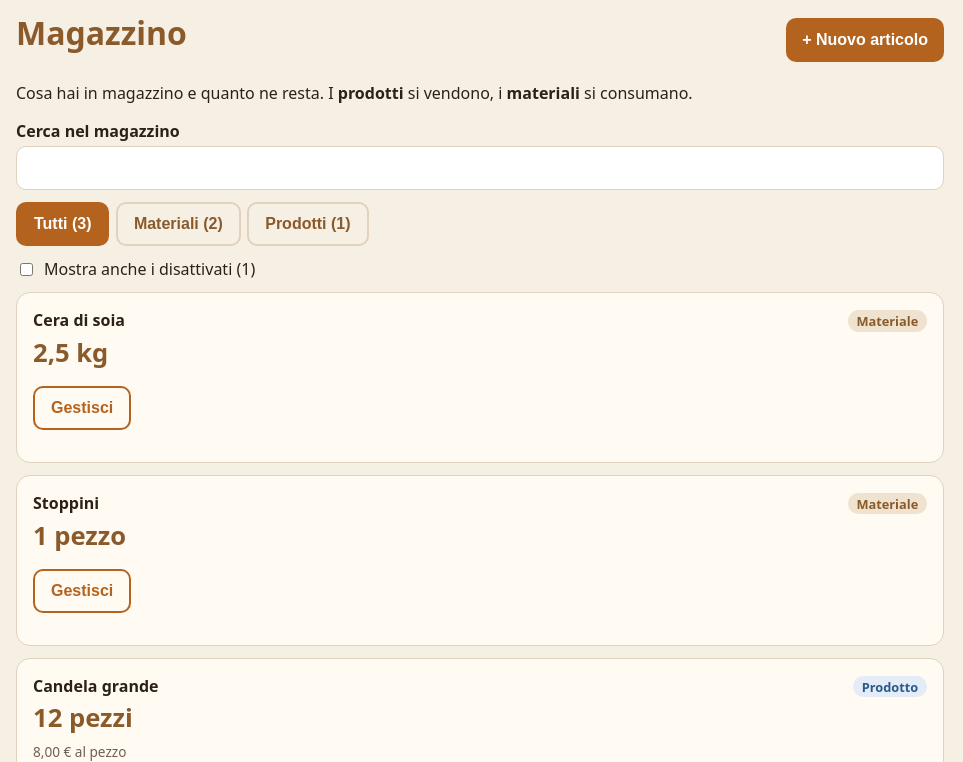
Test: nuovo articolo › scegliendo Prodotto l'unità diventa Pezzi e non si può cambiare
Click the button "+ Nuovo articolo": (865, 40) [786,18,944,62]
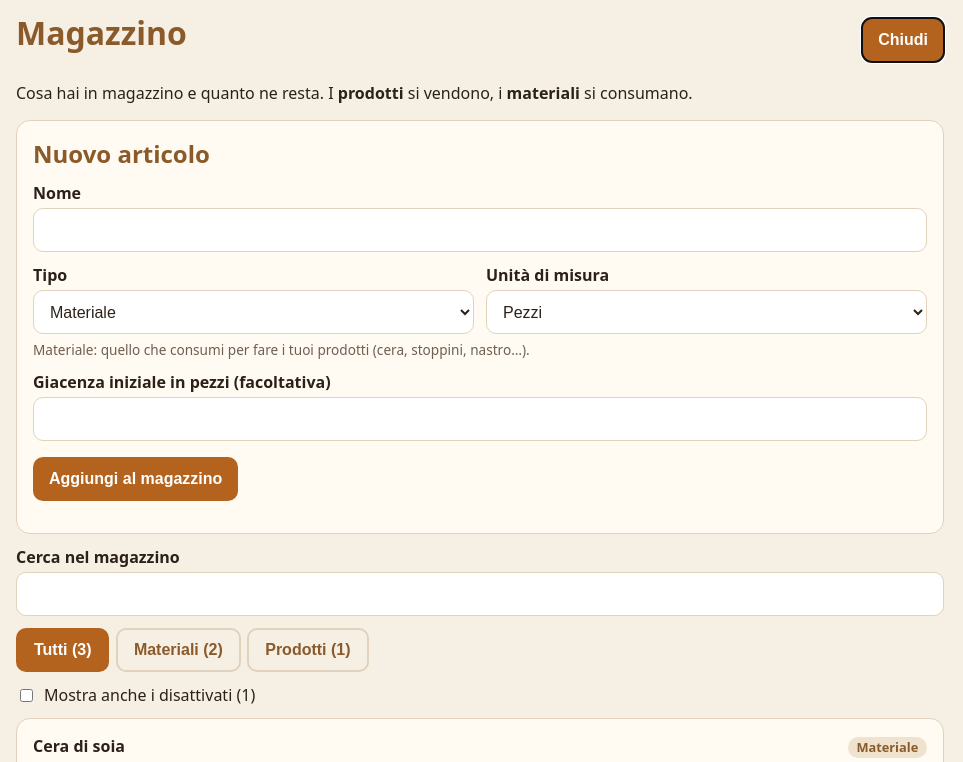
Select "Chili (kg)" in the dropdown labelled "Unità di misura": (706, 312) [486,290,927,334]
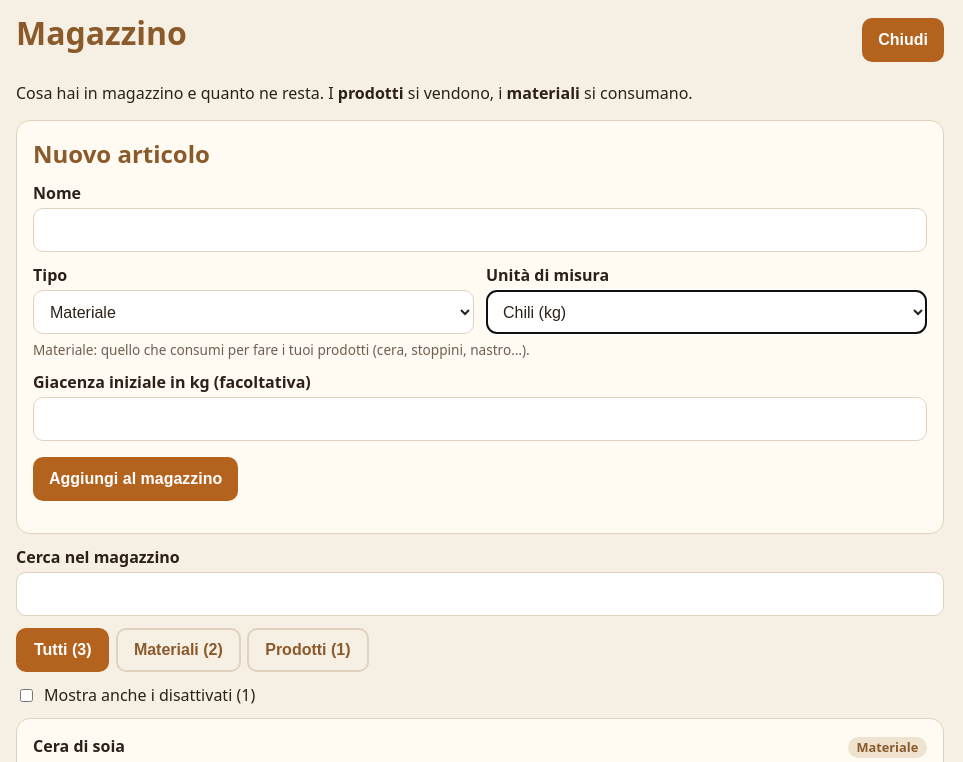
Select "Prodotto" in the dropdown labelled "Tipo": (254, 312) [33,290,474,334]
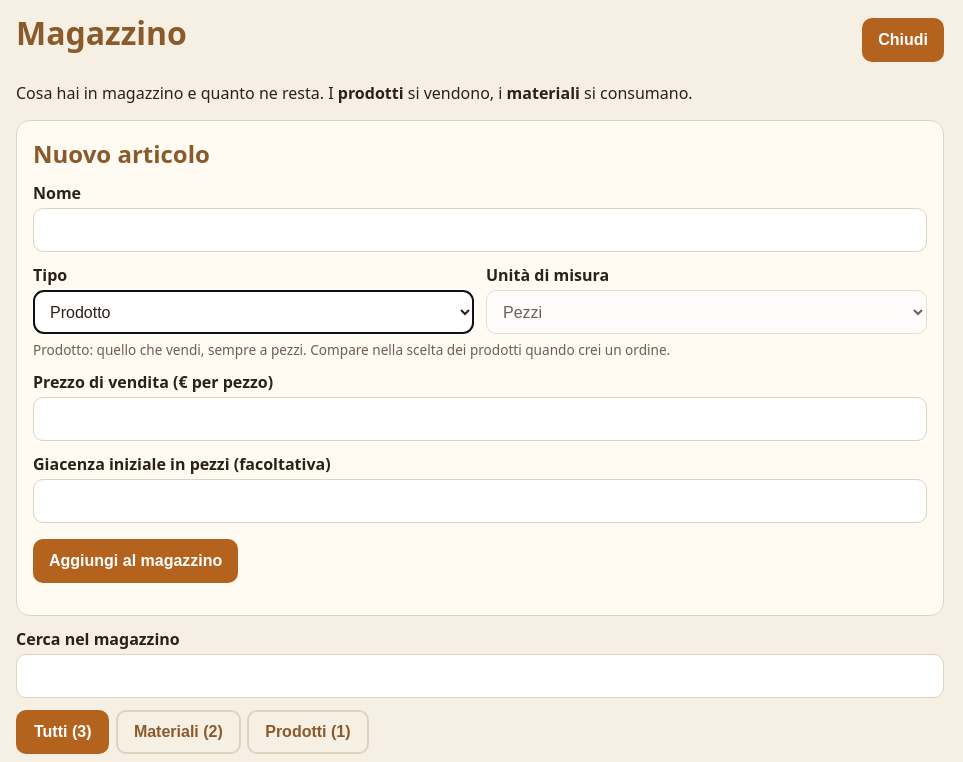
Now the dropdown labelled "Unità di misura" is disabled, box [486,290,927,334]
Select "Materiale" in the dropdown labelled "Tipo": (254, 312) [33,290,474,334]
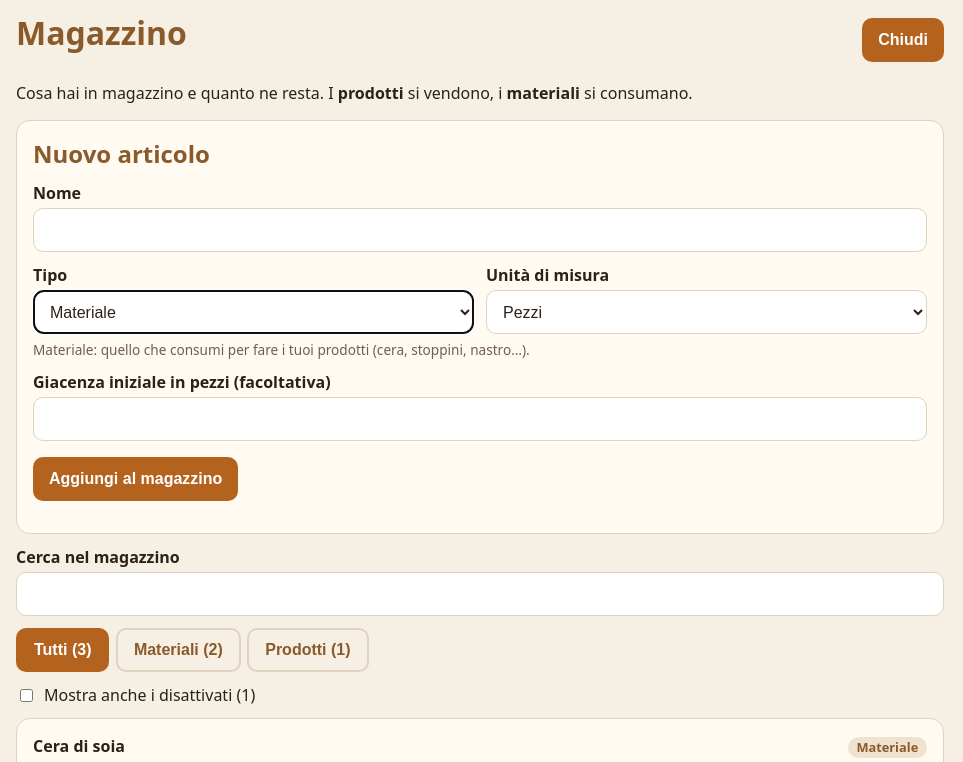
Now the dropdown labelled "Unità di misura" is enabled, box [486,290,927,334]
